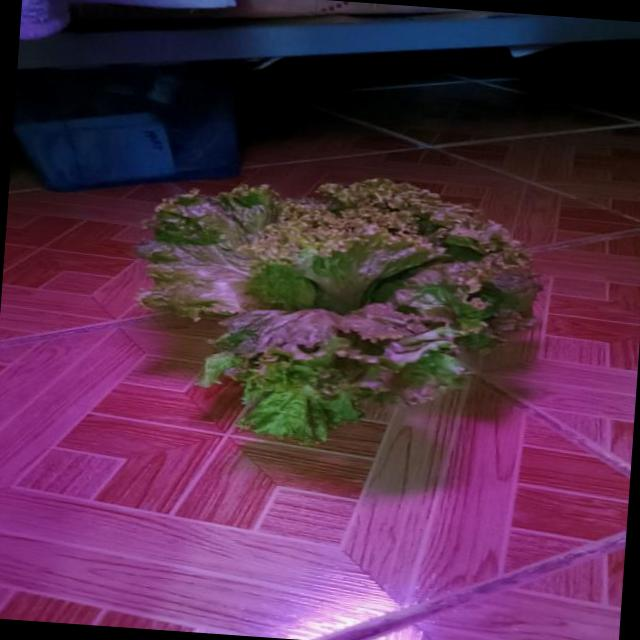Lettuce-Ready-to-Harvest: (142, 178, 537, 440)
